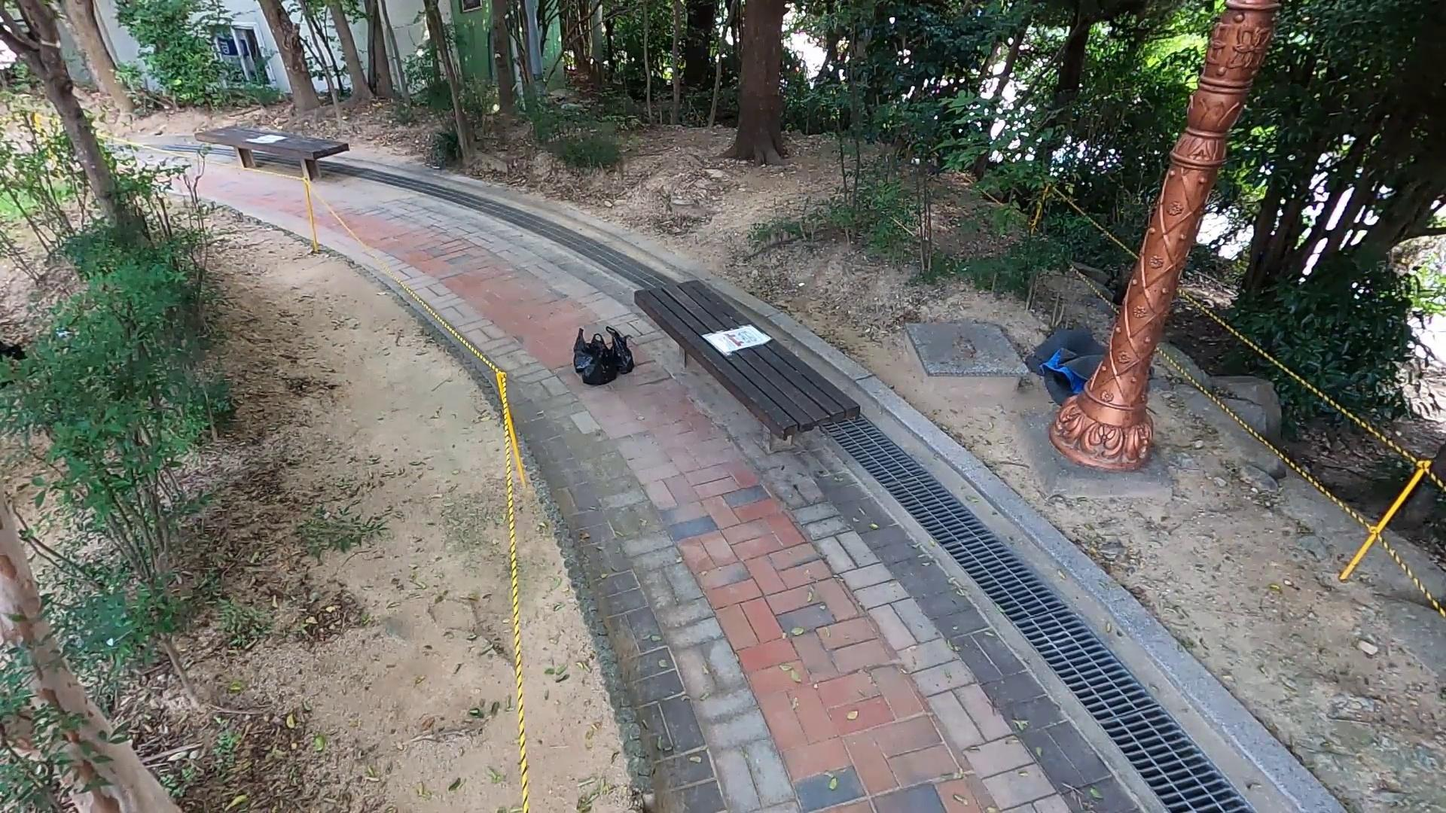trash: (1025, 323, 1119, 406), (581, 337, 618, 388), (570, 327, 609, 373), (604, 320, 635, 377)
